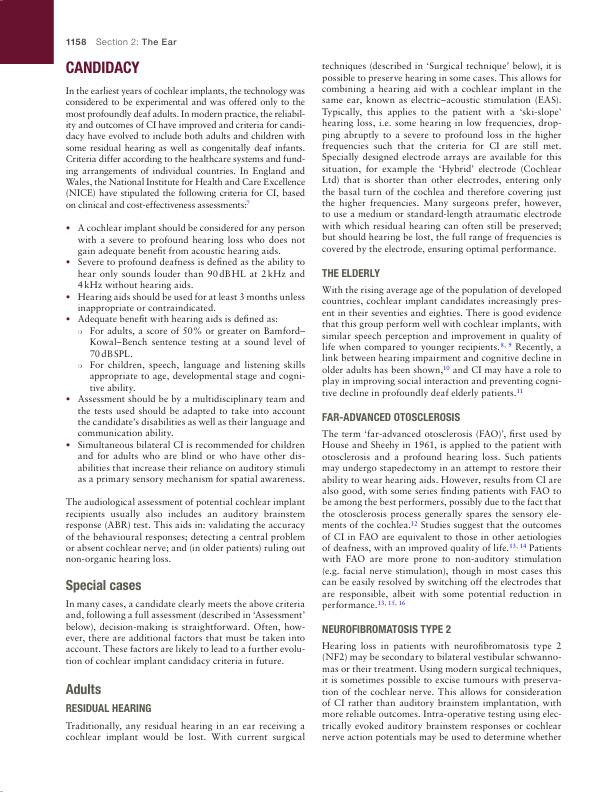header: (95, 36, 178, 46)
list: (64, 222, 307, 486), (76, 325, 307, 394)
section-heading: (65, 59, 140, 75)
sub-section-heading: (321, 411, 461, 423), (321, 623, 453, 634), (65, 579, 142, 594), (65, 703, 152, 713), (320, 267, 382, 278), (65, 682, 103, 696)
text: (321, 60, 563, 255), (321, 428, 563, 612), (64, 85, 306, 210), (321, 284, 563, 400), (321, 641, 562, 743), (64, 496, 306, 566), (64, 598, 308, 667), (64, 720, 306, 743)
